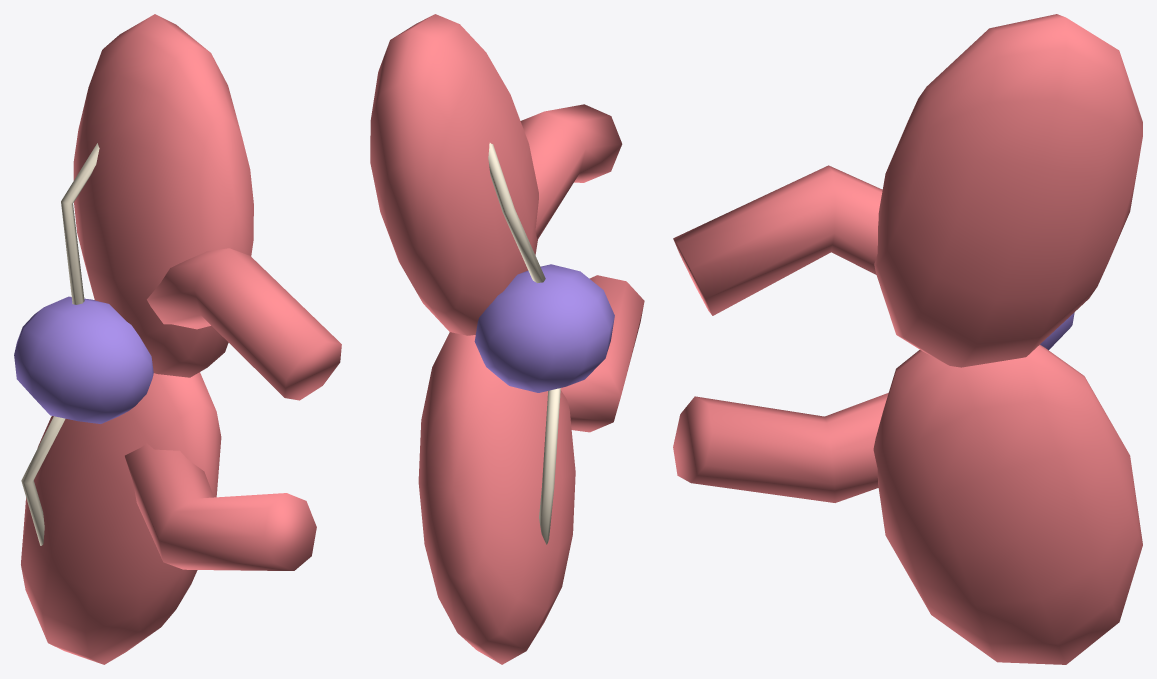
Rendered from soft-bow.glb.
3 renders of one model, left to right at view 1: azimuth 30°, elevation 25°; view 2: azimuth 150°, elevation 25°; view 3: azimuth 270°, elevation 25°, orthographic. The views are drawn at different scales.
Parts seen in each view (by area): view 1: SHOP_soft-bow_optimized; view 2: SHOP_soft-bow_optimized; view 3: SHOP_soft-bow_optimized.
Part boxes in pixels (box(x1,y1,x2,y2)): SHOP_soft-bow_optimized: box(14, 14, 341, 664); SHOP_soft-bow_optimized: box(370, 14, 644, 664); SHOP_soft-bow_optimized: box(673, 14, 1142, 664).
Size of the model in its own units: 0.0608 by 0.1722 by 0.1058.
